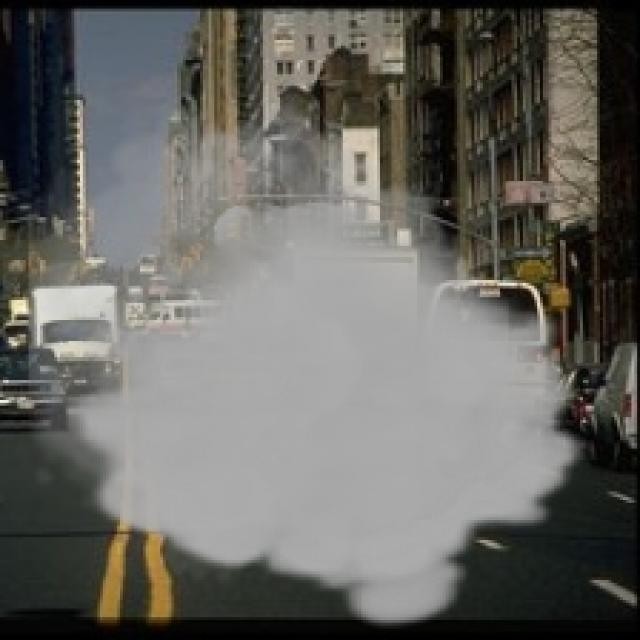Smoke: (29, 83, 588, 632)
